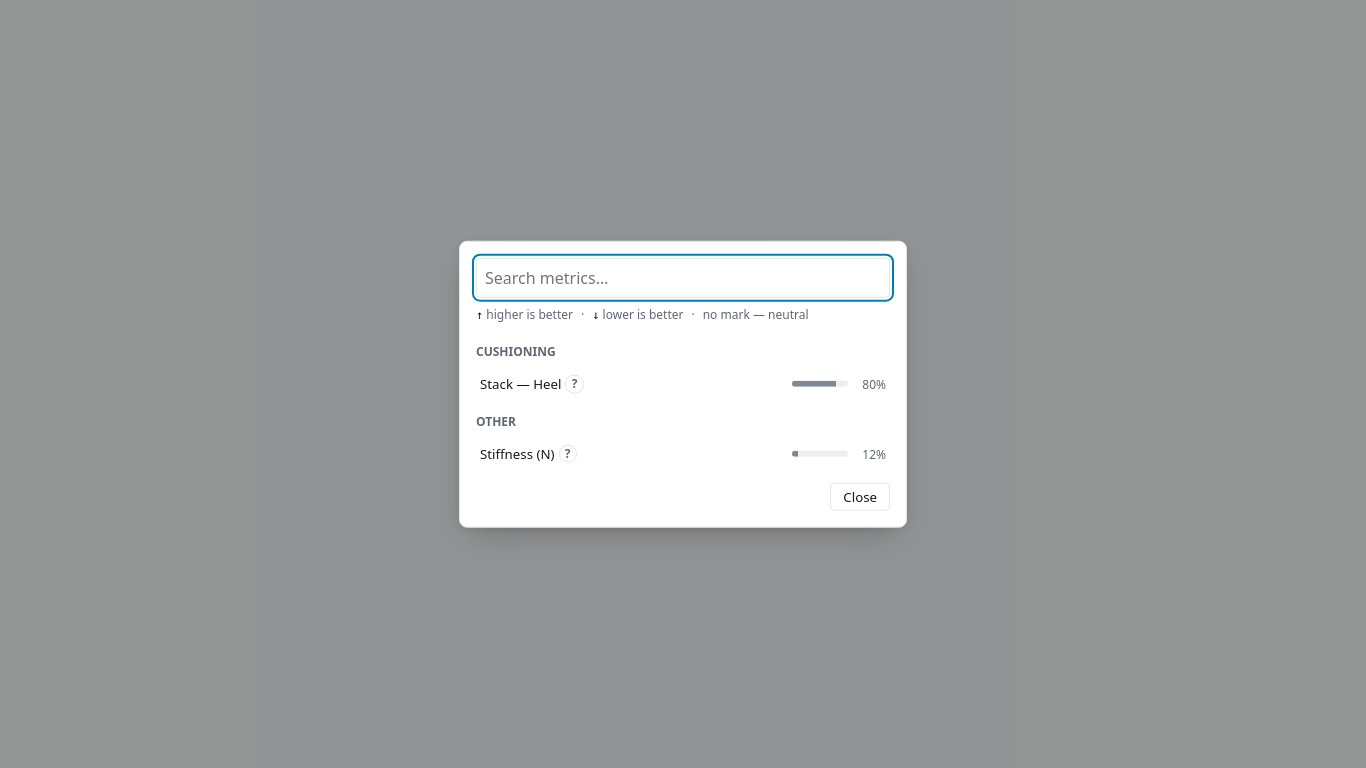
Test case: AddFilterDialog › says so rather than showing an empty box when the search matches nothing
Type "zzzz" into the search field named "Filter metrics".
click(683, 278); type("zzzz")  # box [476,258,890,298]
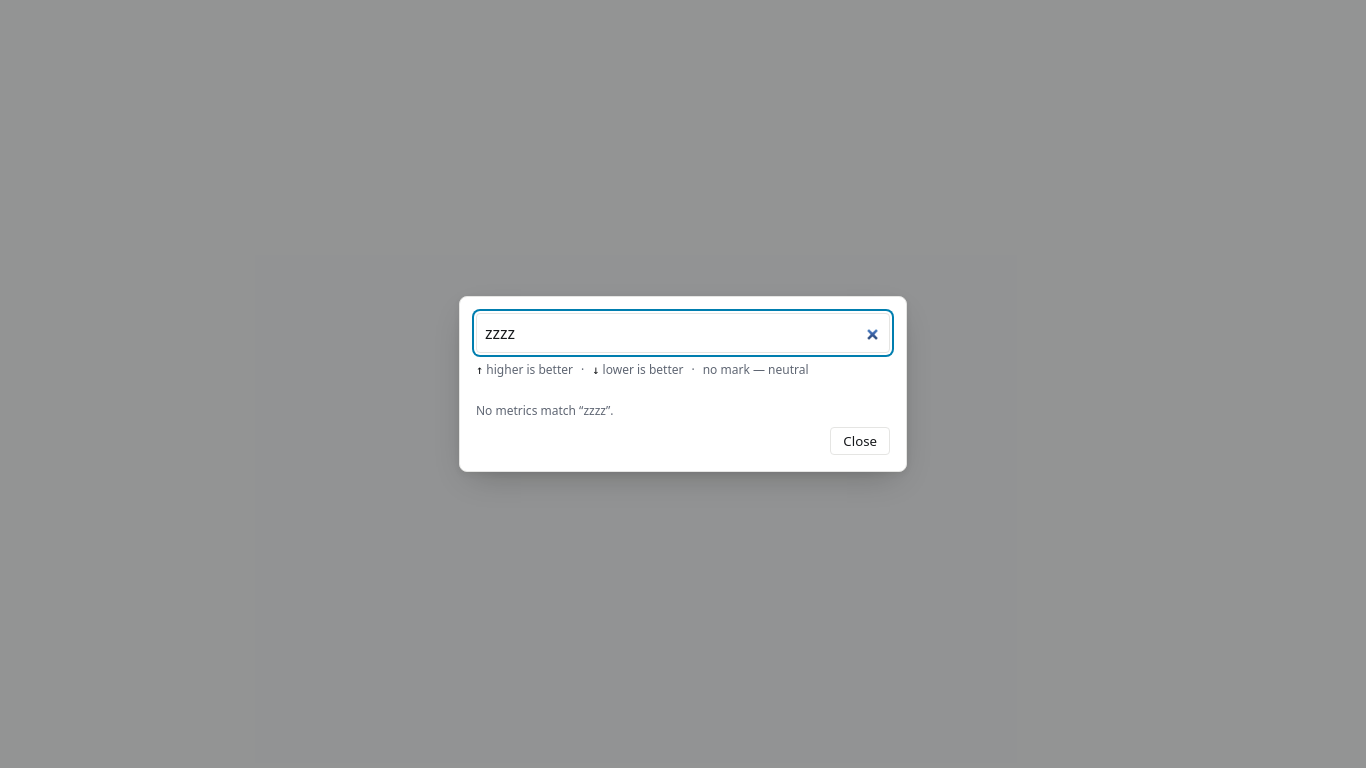
Now the text "No metrics match “zzzz”." is shown, box [476,402,614,419]
